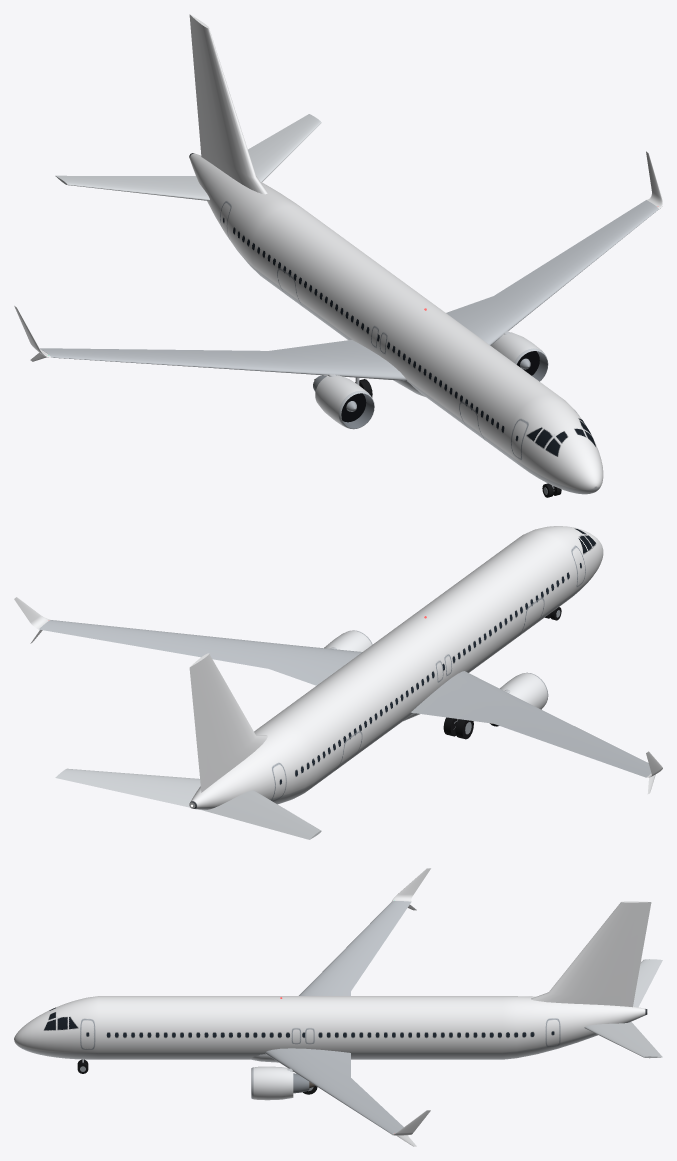
The picture shows the model from 3 angles, top to bottom: view 1: azimuth 30°, elevation 25°; view 2: azimuth 150°, elevation 25°; view 3: azimuth 270°, elevation 25°; orthographic projection. The views are drawn at different scales.
Visible parts, largest first — view 1: body; view 2: body, gear; view 3: body.
Boxes of the visible parts, <box> form: body: <box>14,14,662,494</box>; body: <box>14,526,662,839</box>; gear: <box>443,607,561,739</box>; body: <box>14,868,662,1146</box>.
Size of the model in its own units: 35.69 by 11.67 by 40.45.
Materials: 19 (1 with a texture image).
